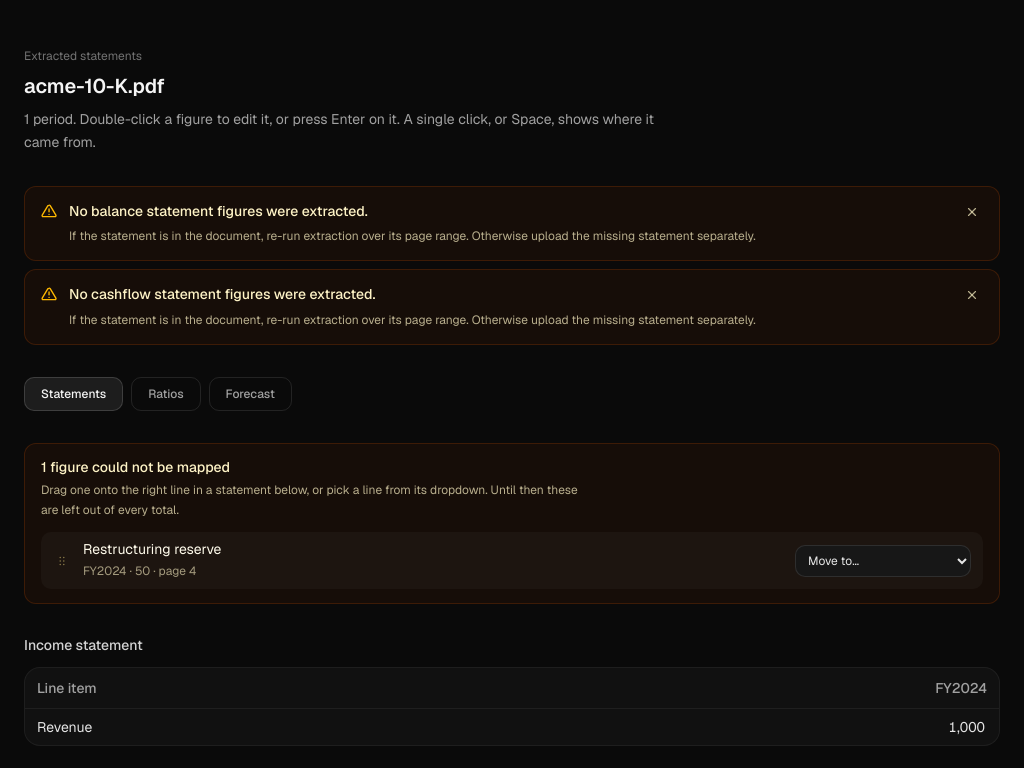
Test: WorkspaceScreen remapping › remaps from the dropdown, with no pointer involved
The image size is (1024, 768).
Select "Inventory" in the dropdown named "Move Restructuring reserve to a line item" at (883, 561), box [795, 545, 971, 577]
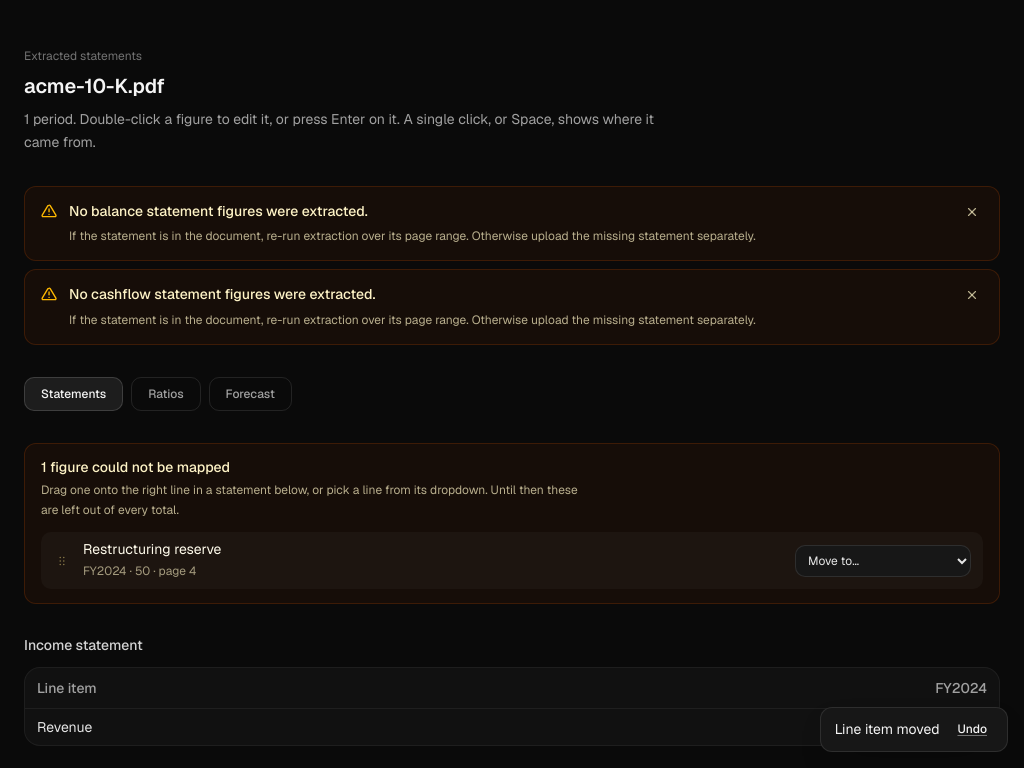
Expected: the text "Line item moved" is shown, [835, 718, 940, 741]
